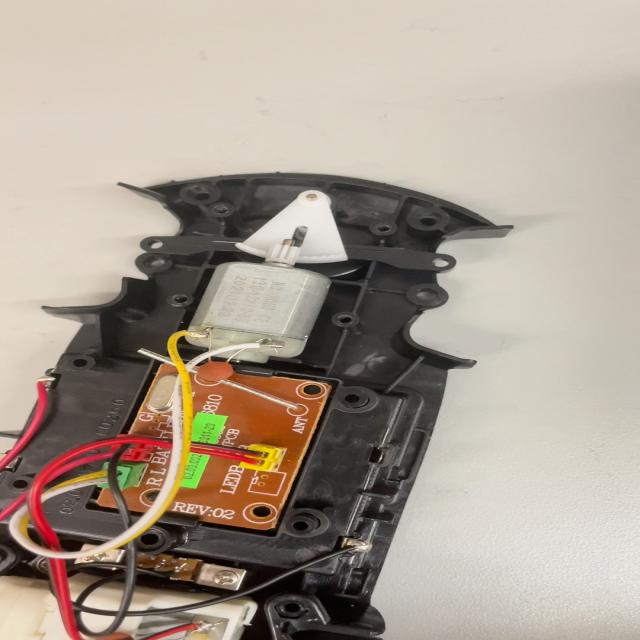motor: (186, 238, 320, 363)
